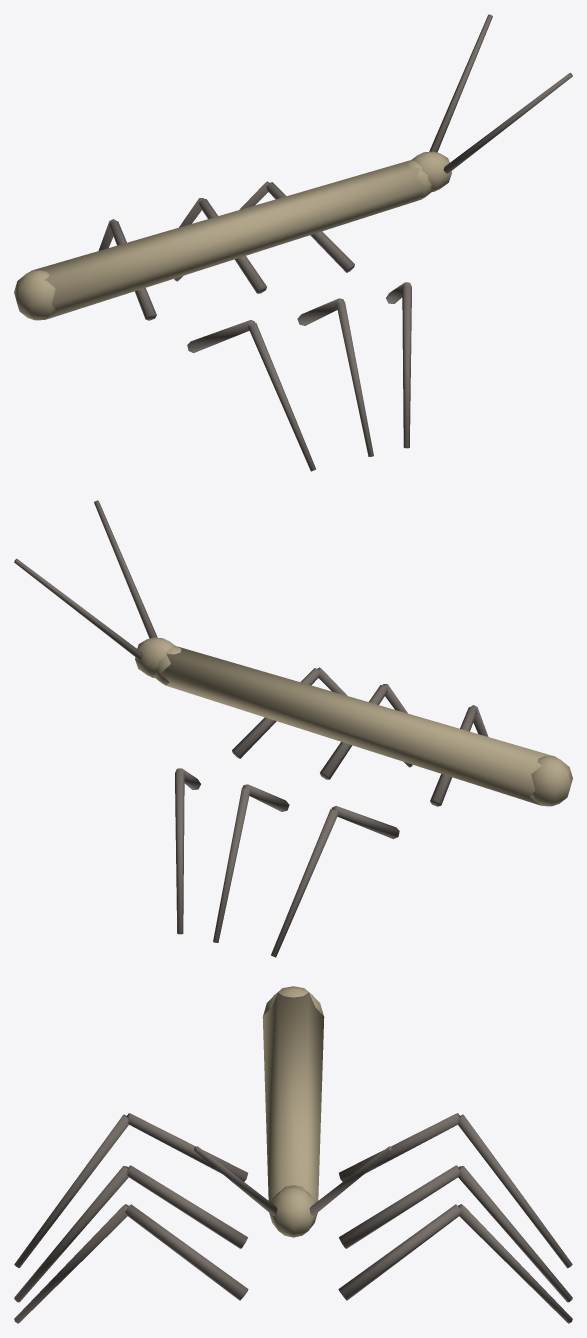
File: thai-red-winged-stick-insect.glb
3 views of the same model, one above another, from view 1: azimuth 30°, elevation 25°; view 2: azimuth 150°, elevation 25°; view 3: azimuth 270°, elevation 25° (orthographic). The views are drawn at different scales.
Parts seen in each view (by area): view 1: e; view 2: e; view 3: e.
Boxes of the visible parts, left/top/right/bottom form: e: left=14, top=14, right=572, bottom=471; e: left=14, top=500, right=572, bottom=957; e: left=14, top=986, right=572, bottom=1323.
Bounding box in the file's own units: 0.5818 × 0.2836 × 0.455.
